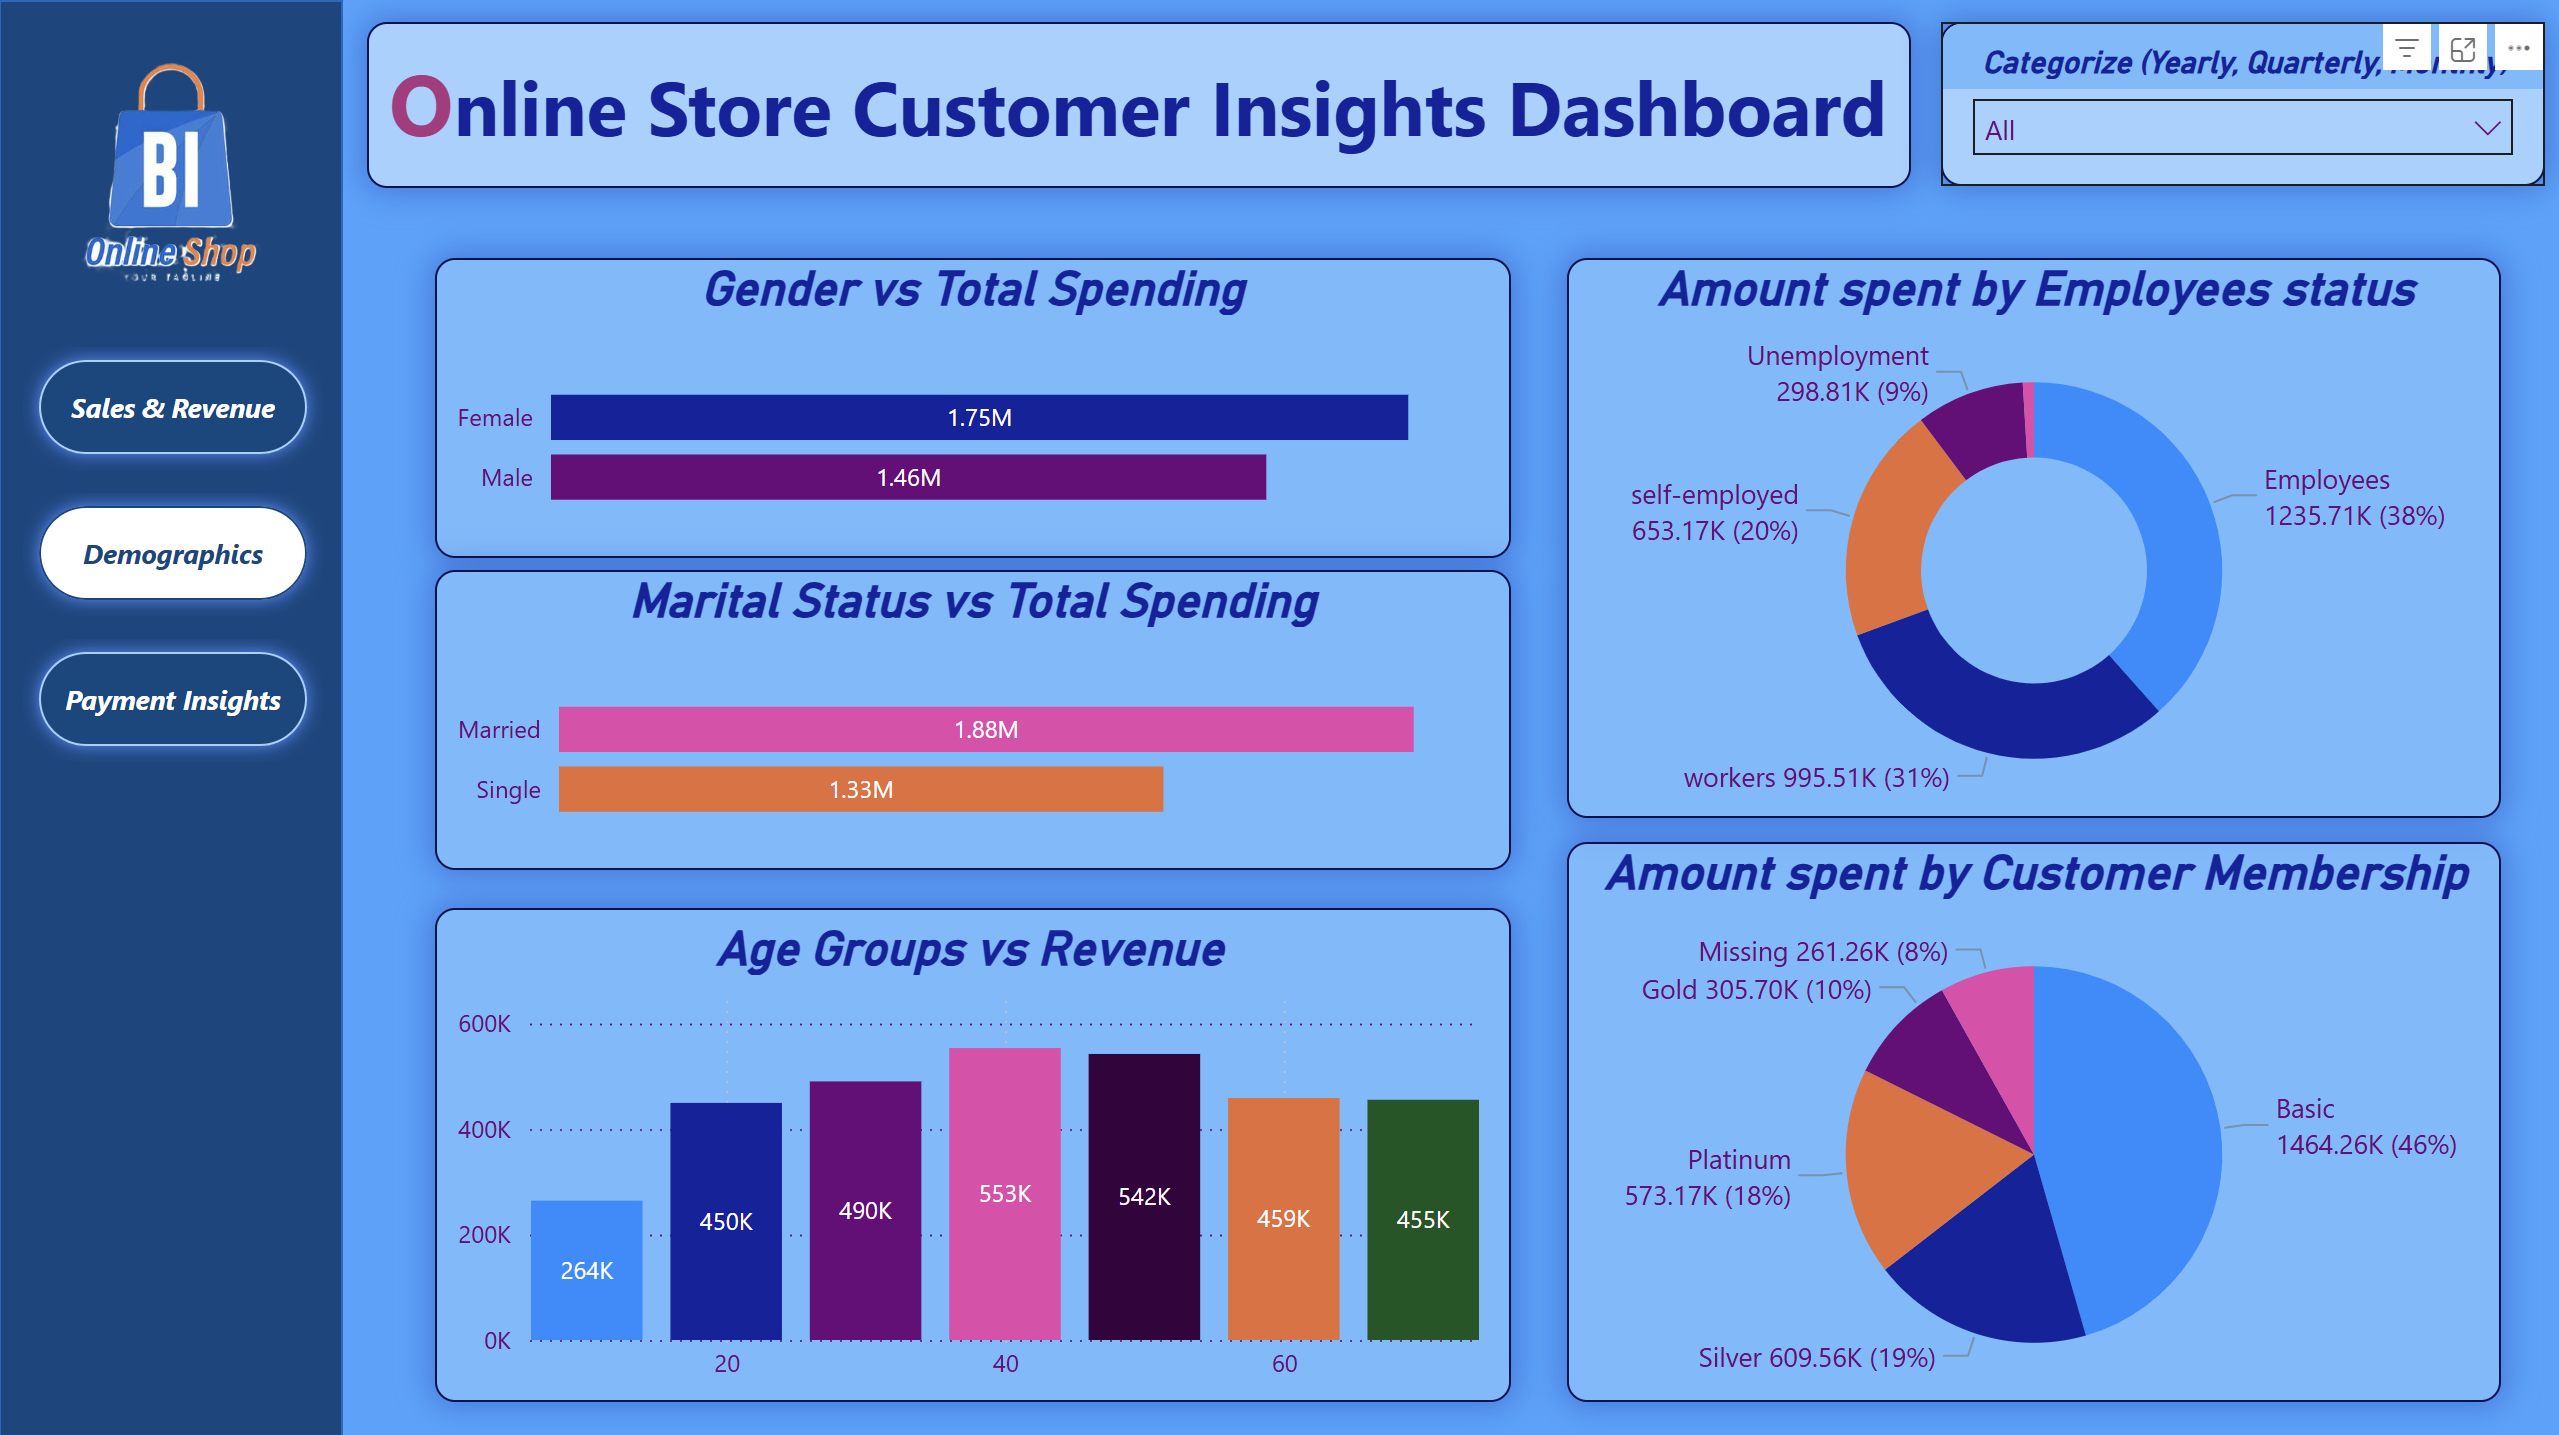

Layout of this report page (visuals, bound fields, positions):
{"tool":"powerbi","page":{"name":"Demographics","canvas":[1280,720],"ordinal":1},"visuals":[{"type":"pieChart","fields":{"Category":["final_customer_data.Segment"],"Y":["Sum(final_customer_data.Amount_spent)"]},"box":[783.8,421.2,467.5,280],"z":1000},{"type":"donutChart","fields":{"Category":["final_customer_data.Employees_status"],"Y":["Sum(final_customer_data.Amount_spent)"]},"box":[783.8,128.8,467.5,280],"z":2000},{"type":"textbox","box":[183.6,11.5,772.6,82.9],"z":3000},{"type":"shape","box":[0,0,172.1,720.3],"z":4000,"group":"g1"},{"type":"slicer","title":"Categorize (Yearly, Quarterly, Monthly)","fields":{"Values":["final_customer_data.Transaction_date.Variation.Date Hierarchy.Year","final_customer_data.Transaction_date.Variation.Date Hierarchy.Quarter","final_customer_data.Transaction_date.Variation.Date Hierarchy.Month"]},"box":[971.4,11.1,301.2,81.5],"z":4000},{"type":"barChart","title":"Gender vs Total Spending","fields":{"Category":["final_customer_data.Gender"],"Y":["Sum(final_customer_data.Amount_spent)"]},"box":[217.5,128.8,538.8,150],"z":5000},{"type":"barChart","title":"Marital Status vs Total Spending","fields":{"Category":["final_customer_data.Marital_status"],"Y":["Sum(final_customer_data.Amount_spent)"]},"box":[217.5,285,538.8,150],"z":6000},{"type":"clusteredColumnChart","title":"Age Groups vs Revenue","fields":{"Y":["Sum(final_customer_data.Amount_spent)"],"Category":["final_customer_data.Age group"]},"box":[217.5,453.8,538.8,247.5],"z":7000},{"type":"group","id":"g1","title":"Group 3","box":[0,0,172.1,720.3],"z":7001},{"type":"image","box":[0,0,171.7,171.7],"z":8000,"group":"g1"},{"type":"pageNavigator","box":[11.7,171.7,150,210],"z":13000,"group":"g1"}]}

Visuals, with their boxes on the page's 1280x720 design canvas (x1, y1, x2, y2). These are canvas units, not pixel positions in the 2559x1435 screenshot, which may show the page scaled, cropped or inside an application window:
pieChart - final_customer_data.Segment x Sum(final_customer_data.Amount_spent): x1=784, y1=421, x2=1251, y2=701
donutChart - final_customer_data.Employees_status x Sum(final_customer_data.Amount_spent): x1=784, y1=129, x2=1251, y2=409
textbox: x1=184, y1=12, x2=956, y2=94
shape: x1=0, y1=0, x2=172, y2=720
"Categorize (Yearly, Quarterly, Monthly)" slicer: x1=971, y1=11, x2=1273, y2=93
"Gender vs Total Spending" barChart: x1=218, y1=129, x2=756, y2=279
"Marital Status vs Total Spending" barChart: x1=218, y1=285, x2=756, y2=435
"Age Groups vs Revenue" clusteredColumnChart: x1=218, y1=454, x2=756, y2=701
"Group 3" group: x1=0, y1=0, x2=172, y2=720
image: x1=0, y1=0, x2=172, y2=172
pageNavigator: x1=12, y1=172, x2=162, y2=382
